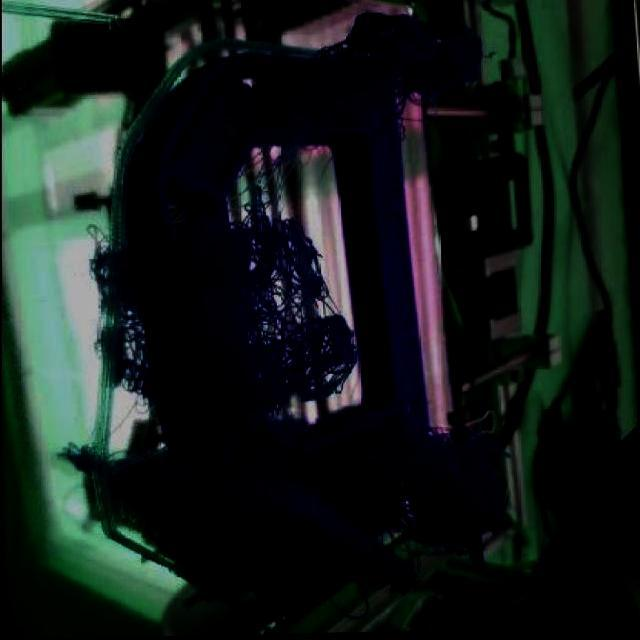spaghetti: (119, 420, 518, 621), (154, 152, 368, 432), (255, 6, 492, 159)
